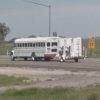Tree: (1, 18, 10, 44)
